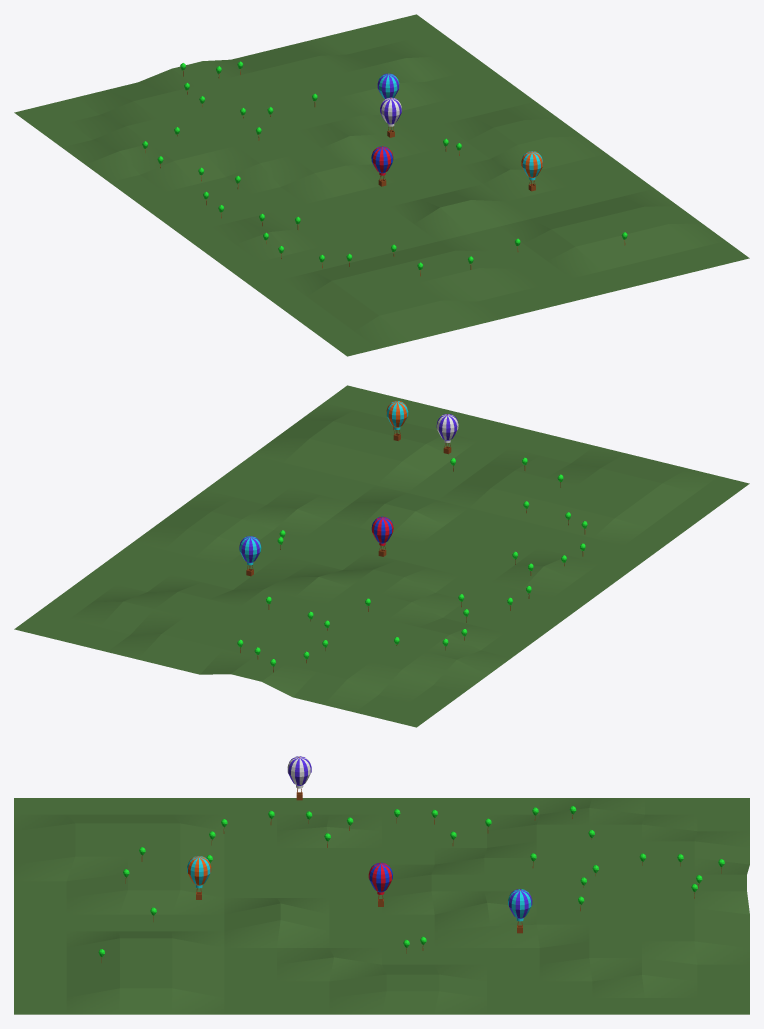
File: BMBalloonScene.fbx
3 renders of one model, top to bottom at view 1: azimuth 30°, elevation 25°; view 2: azimuth 150°, elevation 25°; view 3: azimuth 270°, elevation 25°, orthographic. The views are drawn at different scales.
Visible parts, largest first — view 1: Plane, RedBlueBalloon; view 2: Plane, RedBlueBalloon; view 3: Plane, PinkPurpleBalloon, Balloon3, OrangeBlueBalloon, RedBlueBalloon.
Boxes of the visible parts, <box> form: Plane: <box>14,14,749,356</box>; RedBlueBalloon: <box>371,146,393,186</box>; Plane: <box>14,385,749,727</box>; RedBlueBalloon: <box>371,516,393,556</box>; Plane: <box>14,798,749,1014</box>; PinkPurpleBalloon: <box>287,756,311,800</box>; Balloon3: <box>508,889,532,933</box>; OrangeBlueBalloon: <box>187,856,211,899</box>; RedBlueBalloon: <box>368,862,392,906</box>.
Bounding box in the file's own units: 17096 × 4938 × 24514.
